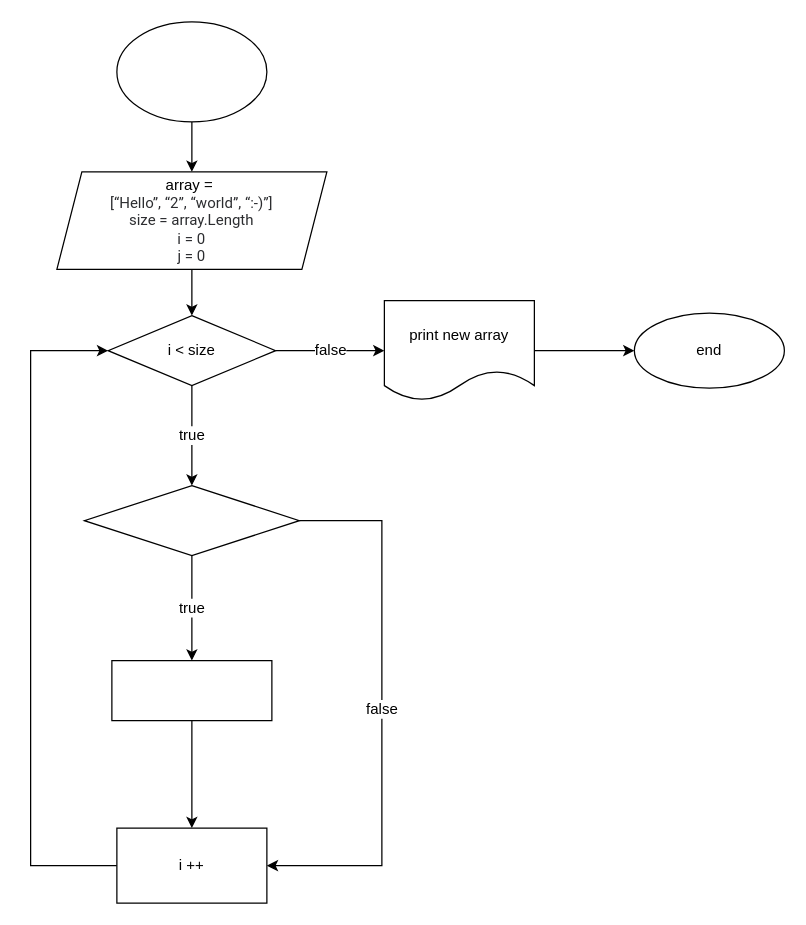
Some shapes in this 806 by 925 pixel diagram are drawn without their labels. Each missing label, with the centre of its shape:
array[i].Length < = 3: the point at 191,520
new array[j] = array [I] j++: the point at 191,690
start: the point at 191,71
